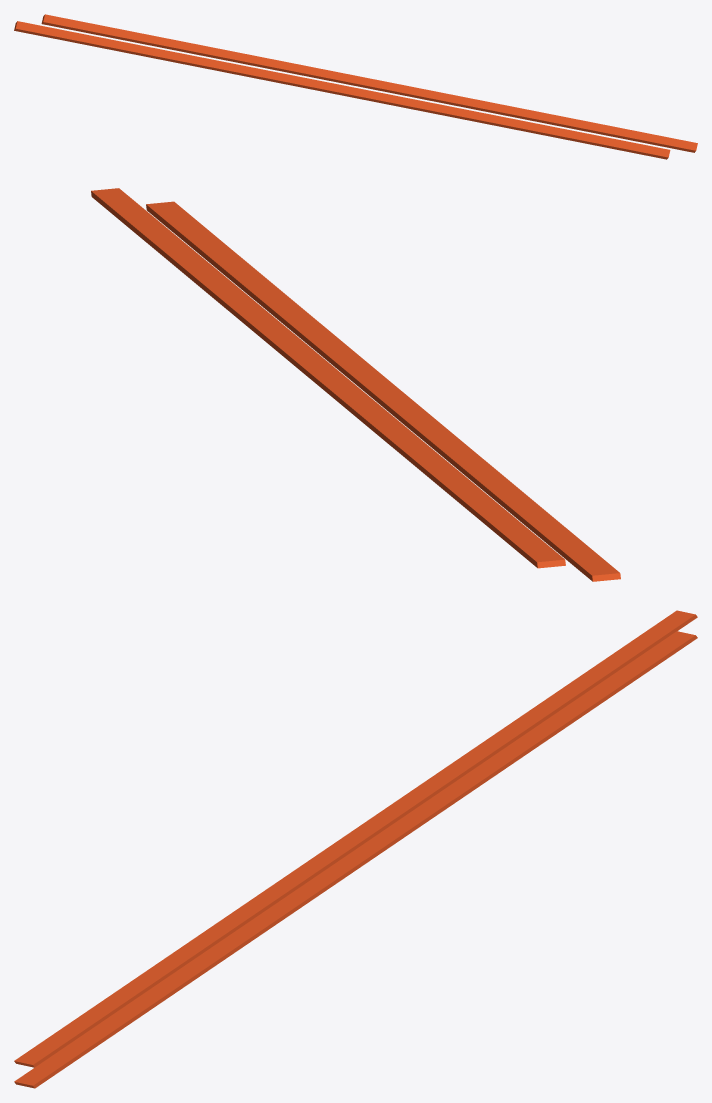
Rendered from board 12.fbx.
The picture shows the model from 3 angles, top to bottom: view 1: azimuth 30°, elevation 25°; view 2: azimuth 150°, elevation 25°; view 3: azimuth 270°, elevation 25°; orthographic projection. The views are drawn at different scales.
Visible parts, largest first — view 1: Cube.008, Cube.034; view 2: Cube.008, Cube.034; view 3: Cube.008, Cube.034.
Part boxes in pixels (left/top/right/bottom): Cube.008: left=41, top=14, right=697, bottom=152; Cube.034: left=14, top=21, right=670, bottom=159; Cube.008: left=91, top=188, right=565, bottom=568; Cube.034: left=146, top=201, right=620, bottom=581; Cube.008: left=14, top=631, right=697, bottom=1088; Cube.034: left=14, top=610, right=697, bottom=1067.
Bounding box in the file's own units: 13784 × 2275 × 11158.
